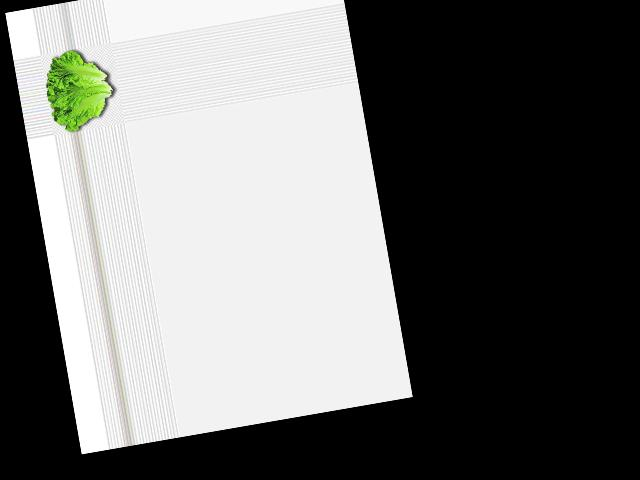lettuce: (40, 42, 120, 133)
